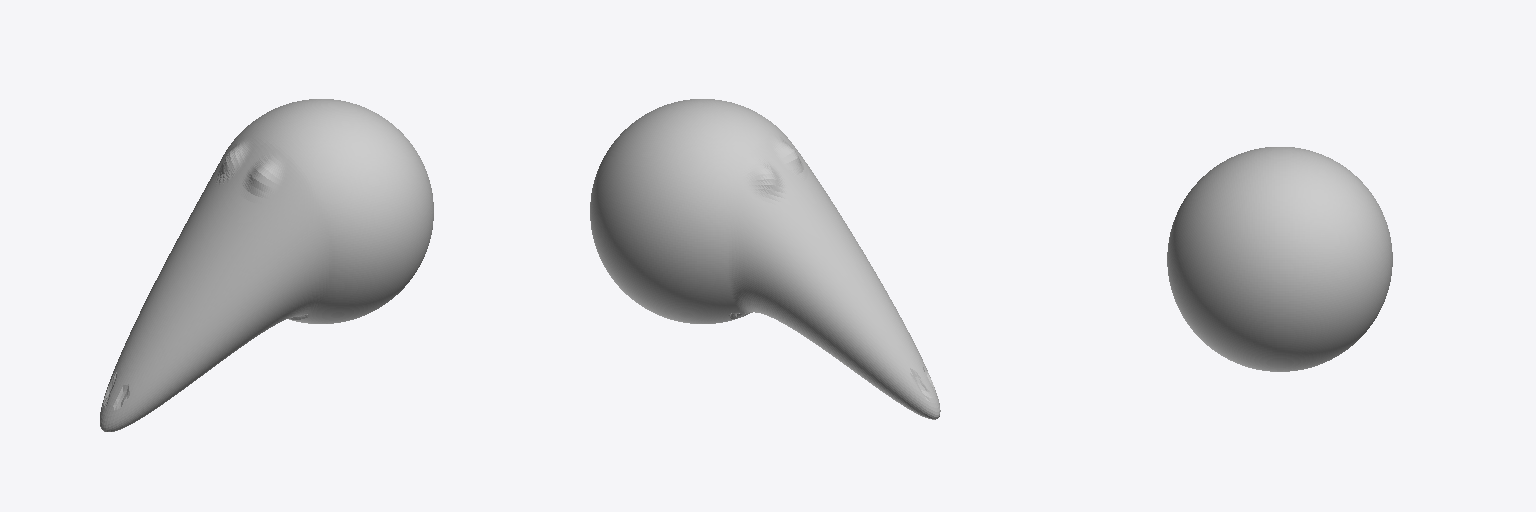
File: noseman.obj
3 renders of one model, left to right at view 1: azimuth 30°, elevation 25°; view 2: azimuth 150°, elevation 25°; view 3: azimuth 270°, elevation 25°, orthographic.
Visible parts, largest first — view 1: Quad_Sphere; view 2: Quad_Sphere; view 3: Quad_Sphere.
Boxes of the visible parts, box(x1,y1,x2,y2) form: Quad_Sphere: box(100, 99, 433, 431); Quad_Sphere: box(590, 99, 940, 419); Quad_Sphere: box(1167, 147, 1392, 371).
Size of the model in its own units: 4.28 by 3.29 by 2.57.